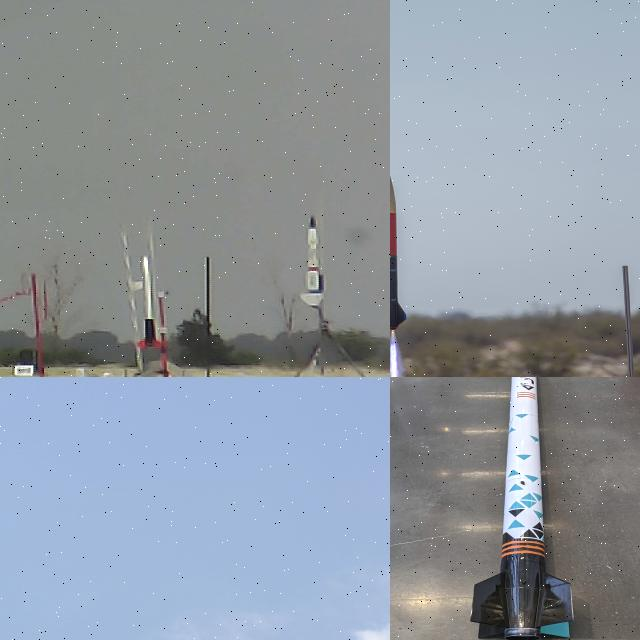Rocket: (469, 377, 575, 640), (390, 174, 407, 330), (298, 215, 325, 308), (138, 255, 163, 349)
